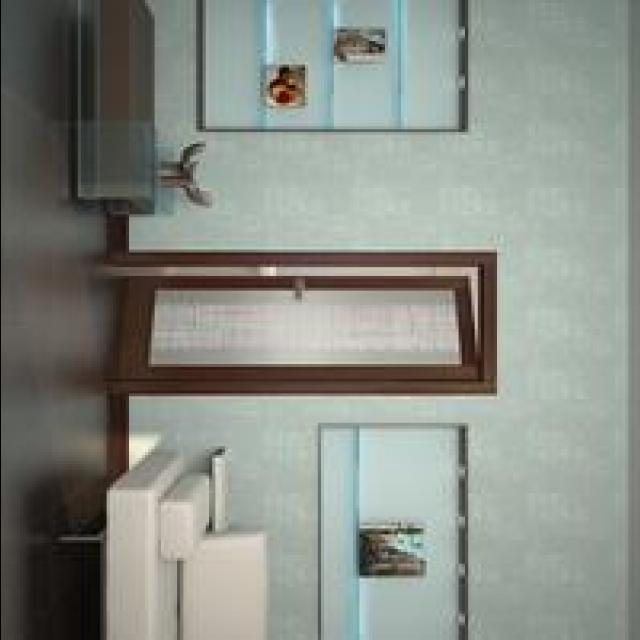open: (102, 255, 492, 402)
